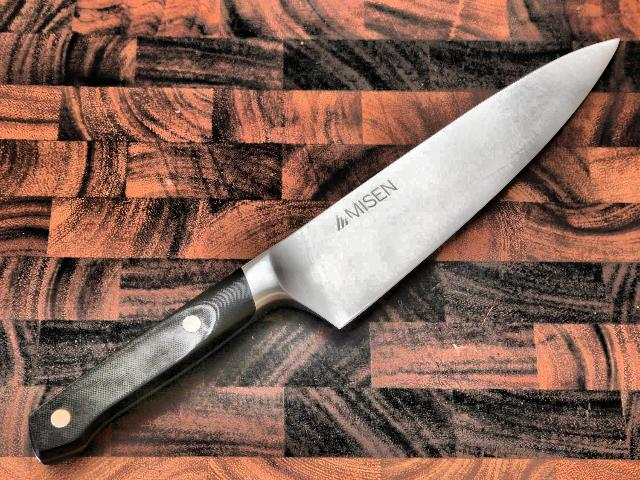knife: (239, 30, 627, 336)
